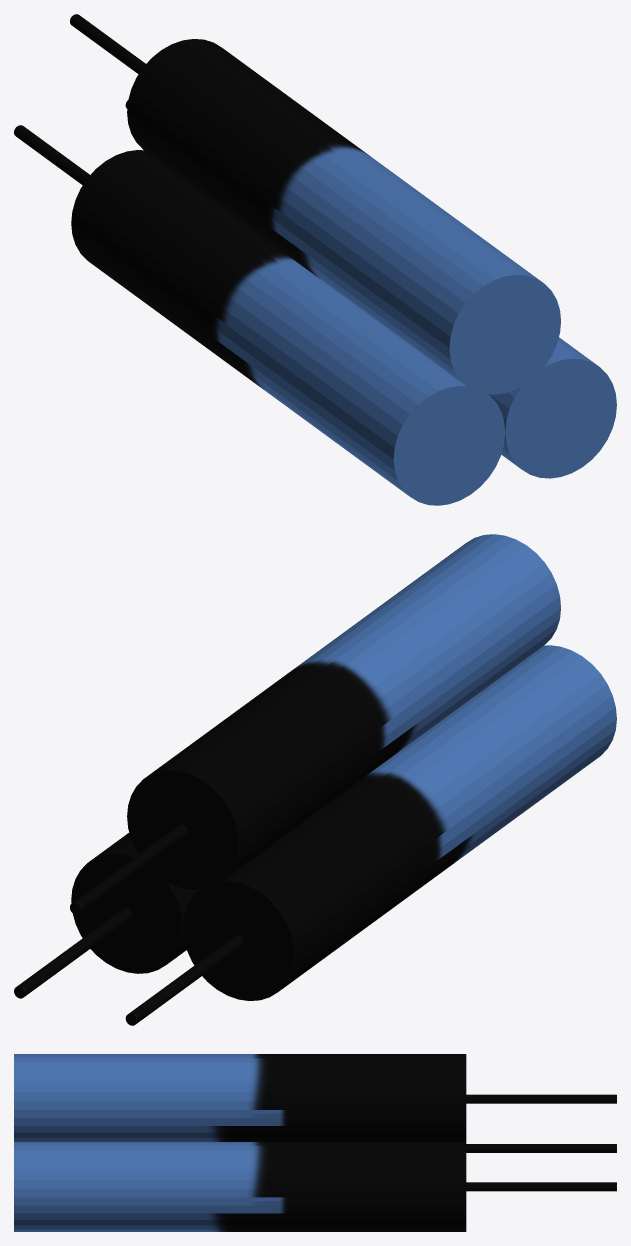
Rendered from dynamite.fbx.
3 renders of one model, top to bottom at view 1: azimuth 30°, elevation 25°; view 2: azimuth 150°, elevation 25°; view 3: azimuth 270°, elevation 25°, orthographic. The views are drawn at different scales.
Visible parts, largest first — view 1: Cylinder.001, Cylinder.003, Cylinder.002, Cylinder, Cylinder.004; view 2: Cylinder.001, Cylinder.003, Cylinder.002, Cylinder.004, Cylinder.005, Cylinder; view 3: Cylinder.002, Cylinder.001, Cylinder, Cylinder.005, Cylinder.004.
Boxes of the visible parts, box(x1,y1,x2,y2) form: Cylinder.001: box(127, 39, 560, 394); Cylinder.003: box(71, 150, 505, 505); Cylinder.002: box(488, 337, 616, 478); Cylinder: box(70, 14, 145, 73); Cylinder.004: box(14, 125, 89, 185); Cylinder.001: box(127, 534, 560, 889); Cylinder.003: box(183, 645, 616, 1000); Cylinder.002: box(71, 833, 199, 973); Cylinder.004: box(125, 935, 244, 1025); Cylinder.005: box(14, 908, 132, 998); Cylinder: box(70, 824, 188, 914); Cylinder.002: box(14, 1142, 466, 1231); Cylinder.001: box(14, 1054, 466, 1141); Cylinder: box(466, 1094, 616, 1103); Cylinder.005: box(466, 1182, 616, 1191); Cylinder.004: box(466, 1144, 616, 1152).
Size of the model in its own units: 120 by 110 by 400.
6 materials, 6 textured.
